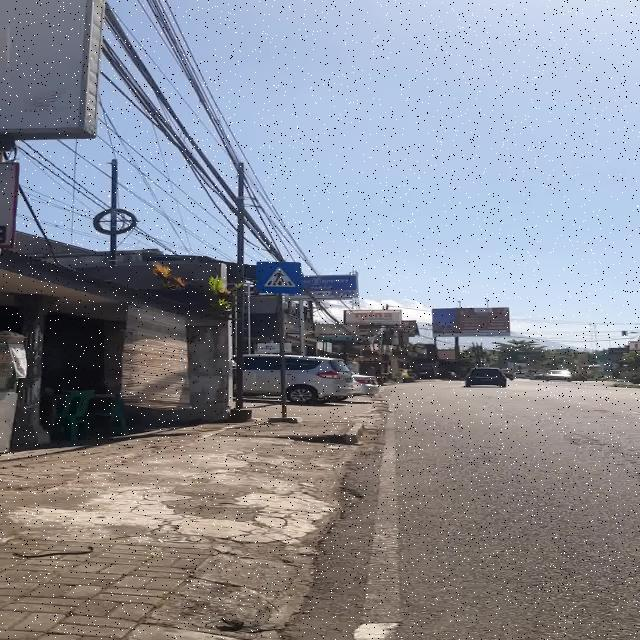Perintah Jalur Penyebrangan: (256, 262, 302, 294)
